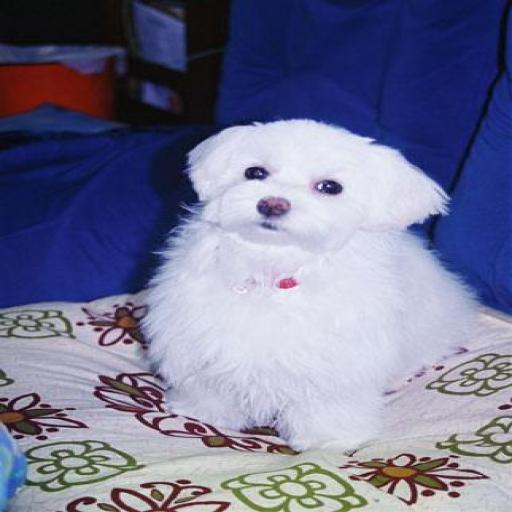dog_face: (175, 120, 445, 253)
